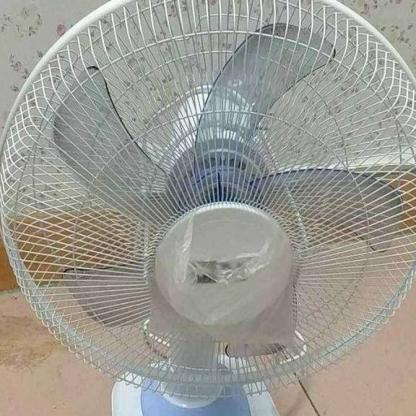fan: (1, 0, 416, 416)
